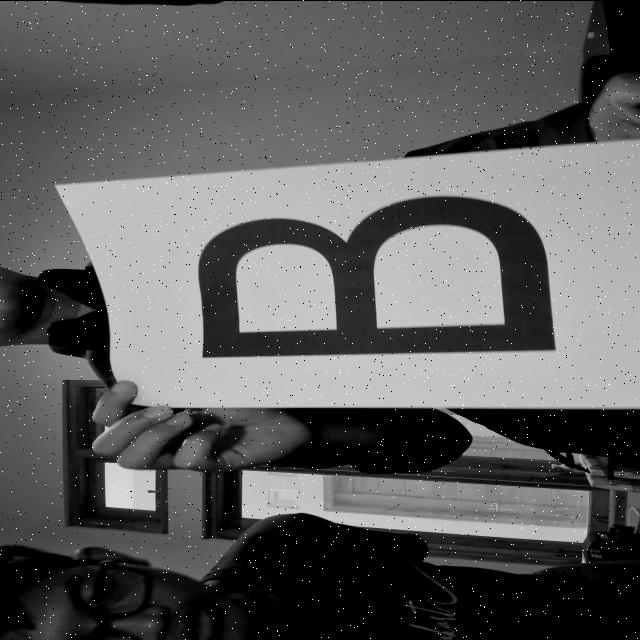b: (176, 180, 568, 384)
